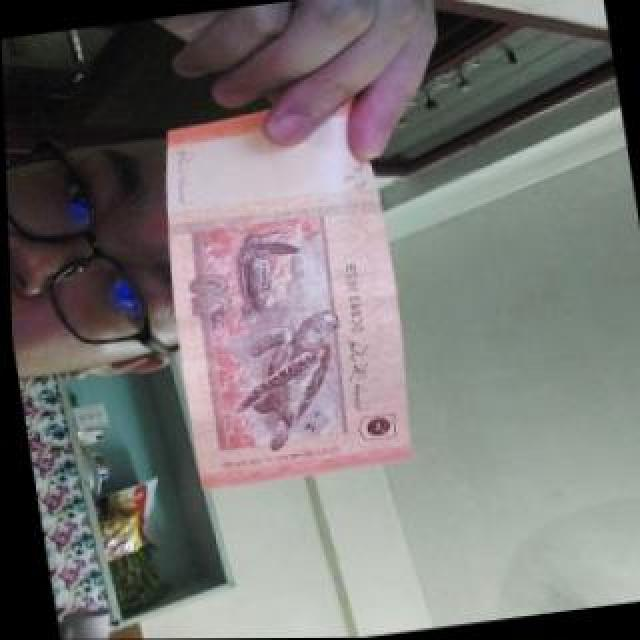20 Ringgit: (134, 96, 417, 492)
